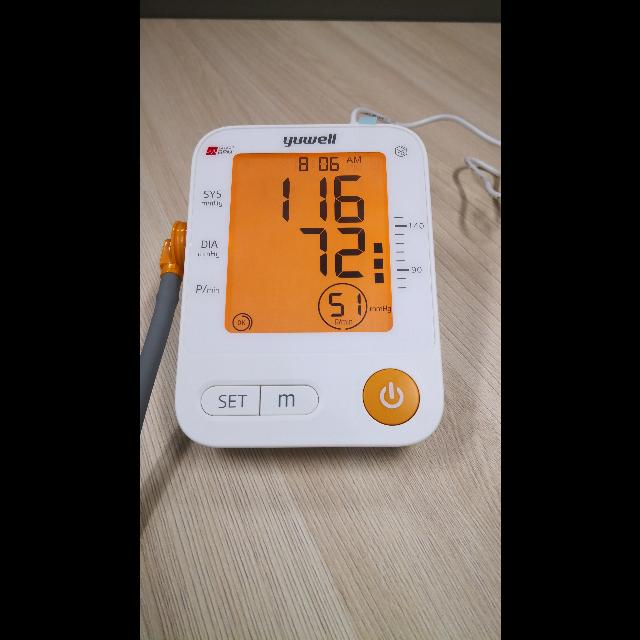Blood-Pressure-Monitor: (174, 125, 442, 447)
